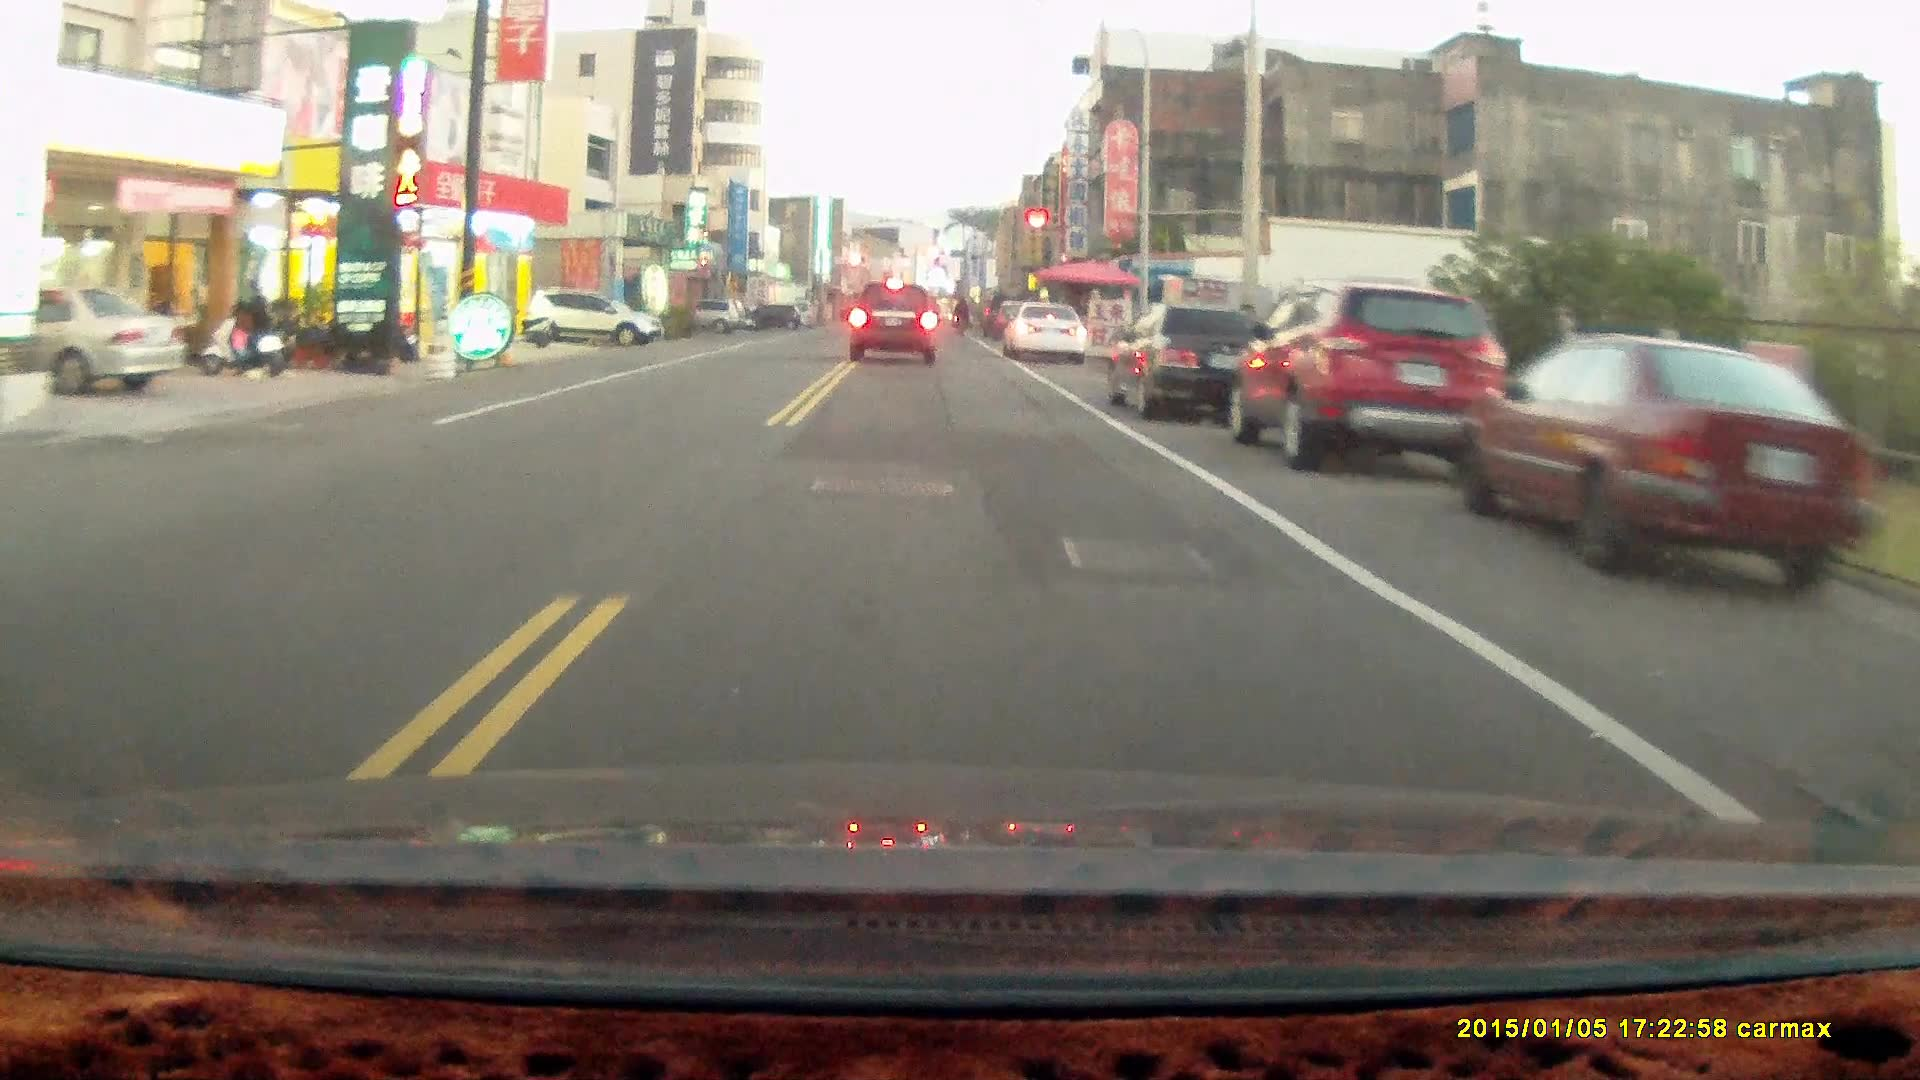vehicle: (1453, 334, 1859, 597), (1234, 278, 1520, 467), (1, 287, 190, 396), (1108, 302, 1274, 423), (526, 284, 669, 349), (848, 281, 938, 365), (1004, 301, 1089, 364)
